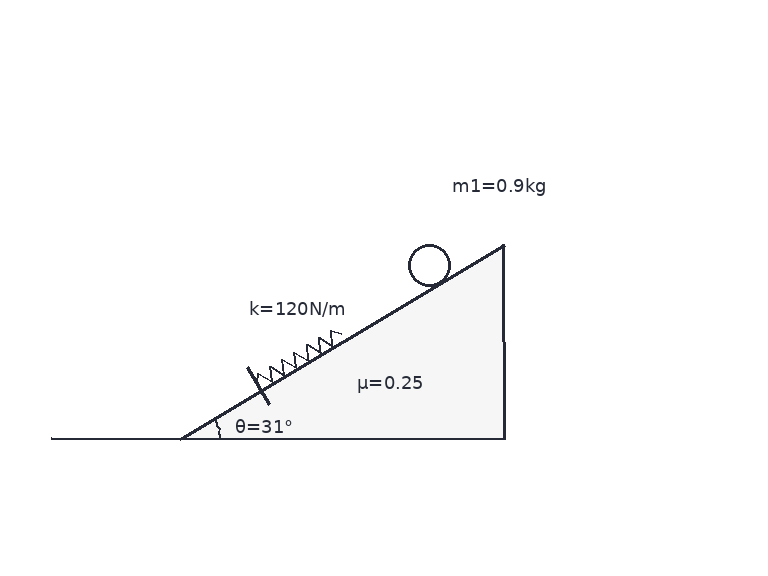ball: (406, 242, 452, 288)
ramp: (178, 243, 505, 441)
spring: (254, 328, 342, 385)
